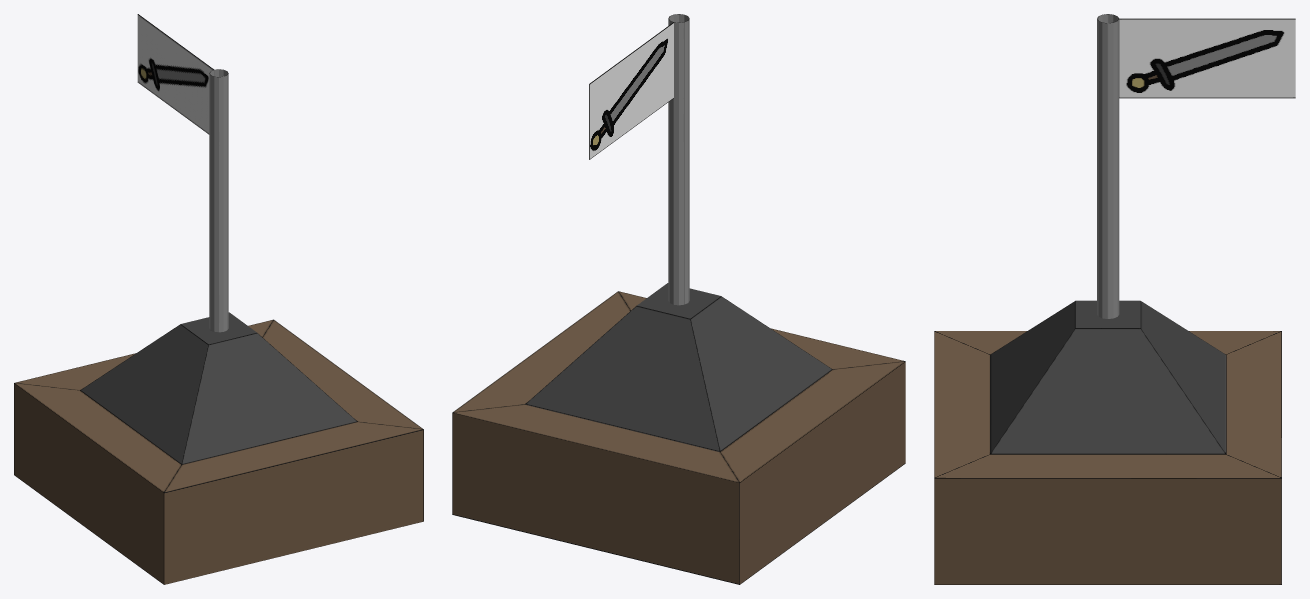
The model's file is flagpole.obj.
The picture shows the model from 3 angles, left to right: view 1: azimuth 30°, elevation 25°; view 2: azimuth 150°, elevation 25°; view 3: azimuth 270°, elevation 25°; orthographic projection. The views are drawn at different scales.
Parts seen in each view (by area): view 1: Cube; view 2: Cube; view 3: Cube.
Boxes of the visible parts, x1,y1,x2,y2 form: Cube: [14, 14, 423, 584]; Cube: [452, 14, 905, 584]; Cube: [934, 14, 1295, 584].
Bounding box in the file's own units: 2 × 3.13 × 2.08.
